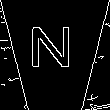N_S: (32, 30, 78, 80)
